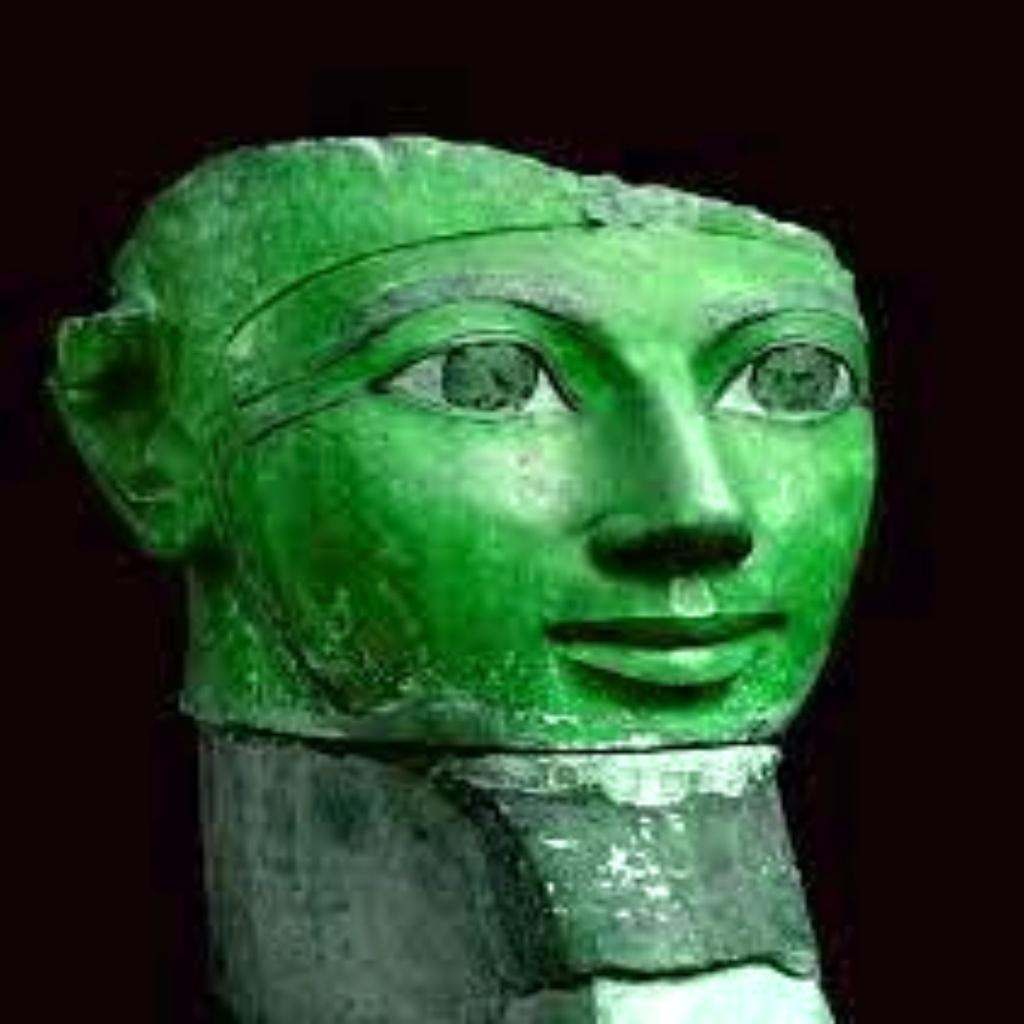Hatshepsut face: (44, 129, 888, 1024)
